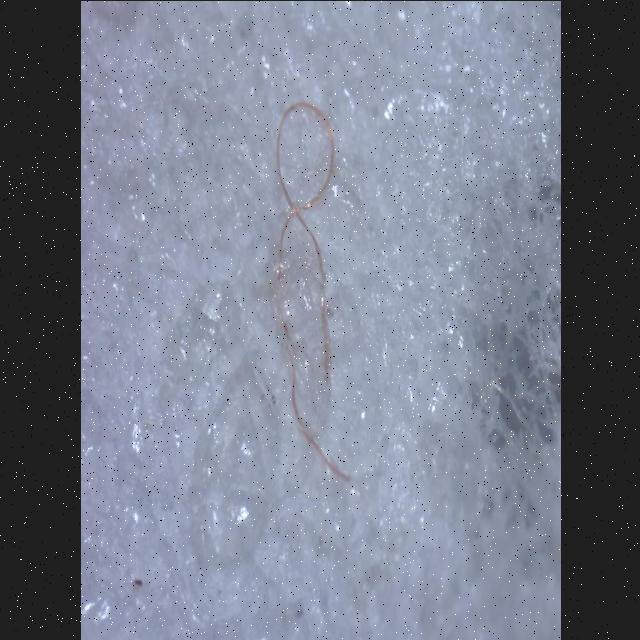Fibre: (270, 96, 352, 482)
